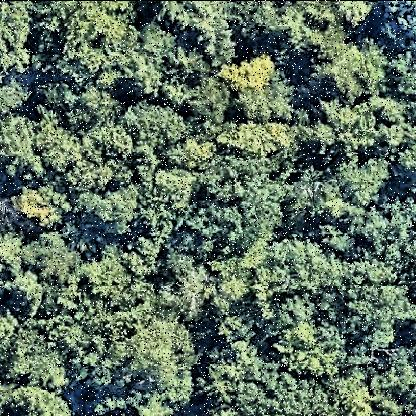tree-top: (100, 308, 198, 415), (182, 160, 292, 252), (253, 235, 337, 327), (59, 2, 145, 82), (233, 363, 344, 416), (351, 202, 416, 276), (346, 282, 416, 350), (3, 323, 73, 391), (197, 321, 263, 393), (277, 321, 349, 386), (128, 21, 184, 101), (120, 96, 194, 156), (215, 113, 299, 164), (283, 4, 346, 72), (74, 181, 142, 239), (185, 12, 244, 74), (347, 105, 415, 157), (22, 232, 82, 288), (333, 42, 393, 98), (12, 179, 74, 233), (214, 48, 280, 97), (30, 122, 84, 176), (2, 110, 42, 182), (1, 1, 35, 79), (1, 386, 87, 416), (86, 255, 138, 301), (372, 355, 416, 407), (337, 154, 385, 200), (167, 267, 217, 306), (292, 169, 330, 219), (2, 266, 44, 308), (383, 48, 416, 100), (75, 83, 115, 119), (1, 74, 37, 112), (306, 126, 338, 154)
